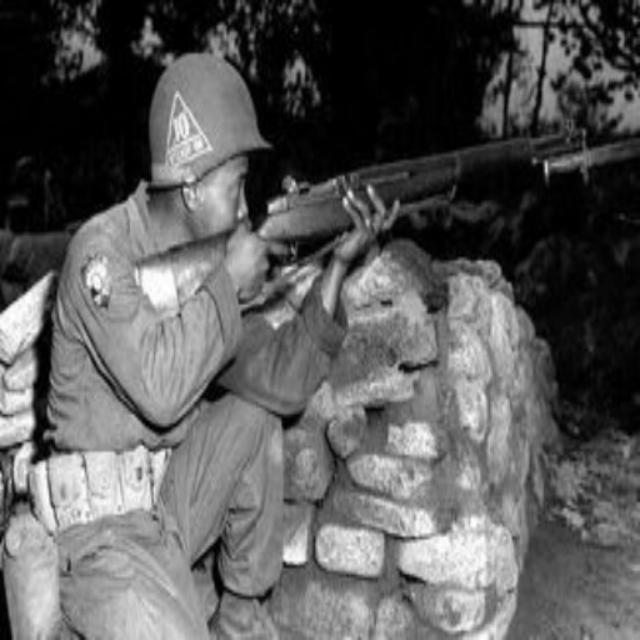other: (46, 53, 360, 631)
